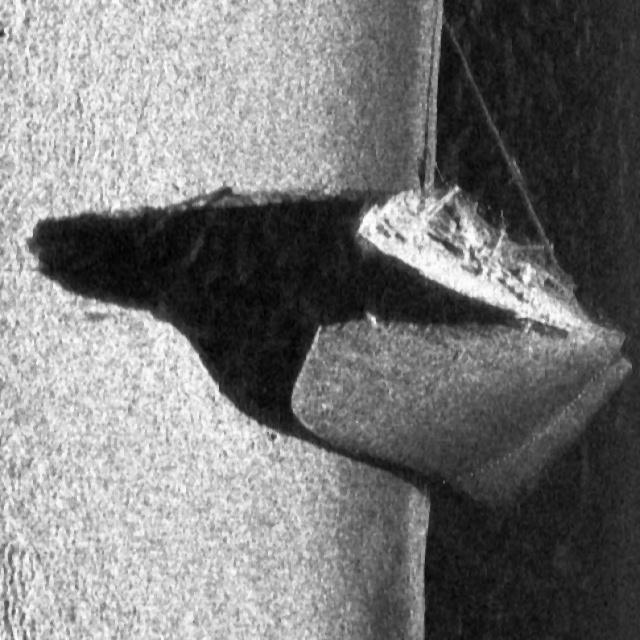Ship: (259, 164, 640, 533)
